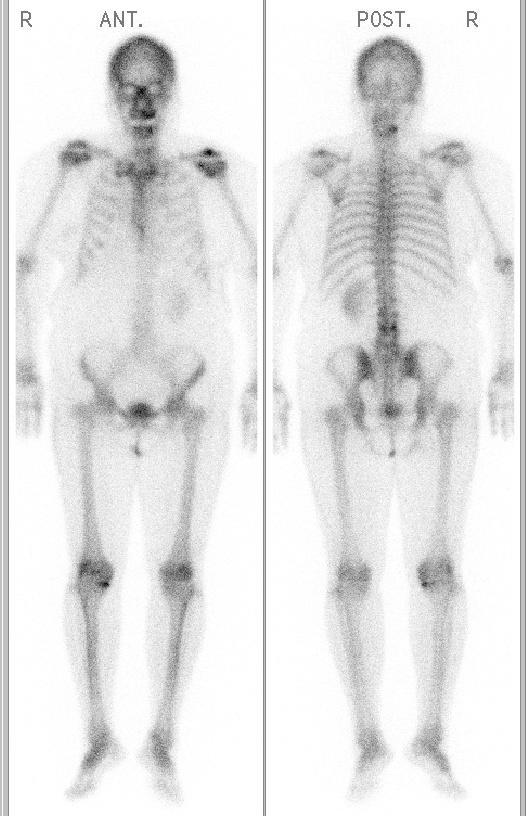person: (8, 1, 522, 816)
